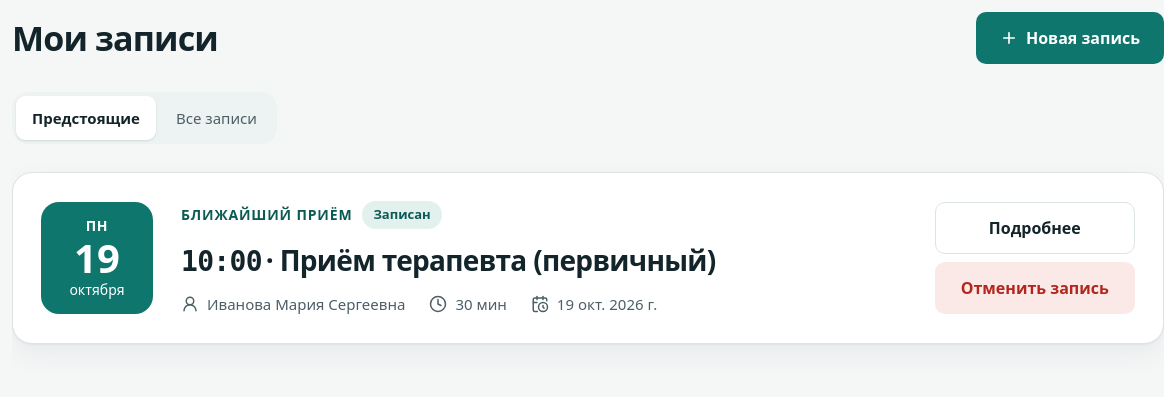
AppointmentList › should not show the cards of the previous tab under the new one while it is loading
Expected: the element with test id "next-appointment" is shown, top-left (12, 172), bottom-right (1163, 344)
Click the tab "Все записи": [216, 118] box top-left (160, 96), bottom-right (273, 140)
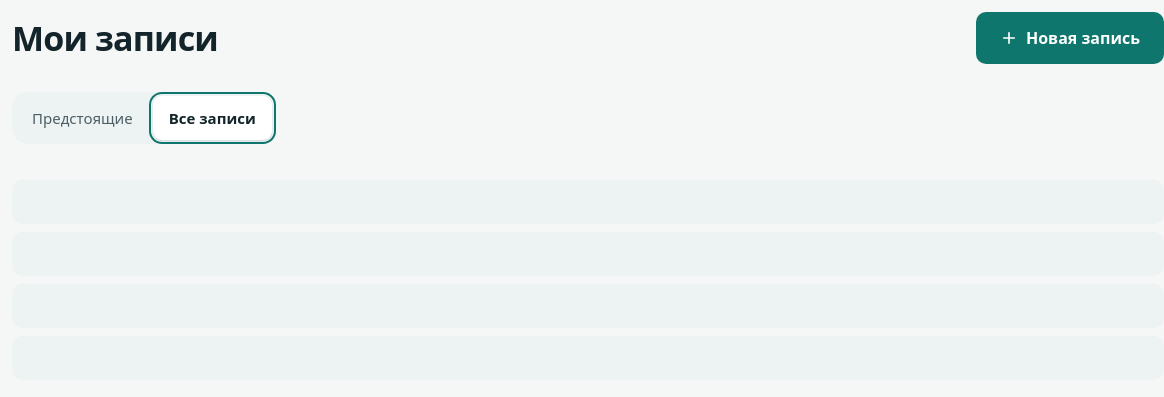
Now the element with test id "next-appointment" is gone
